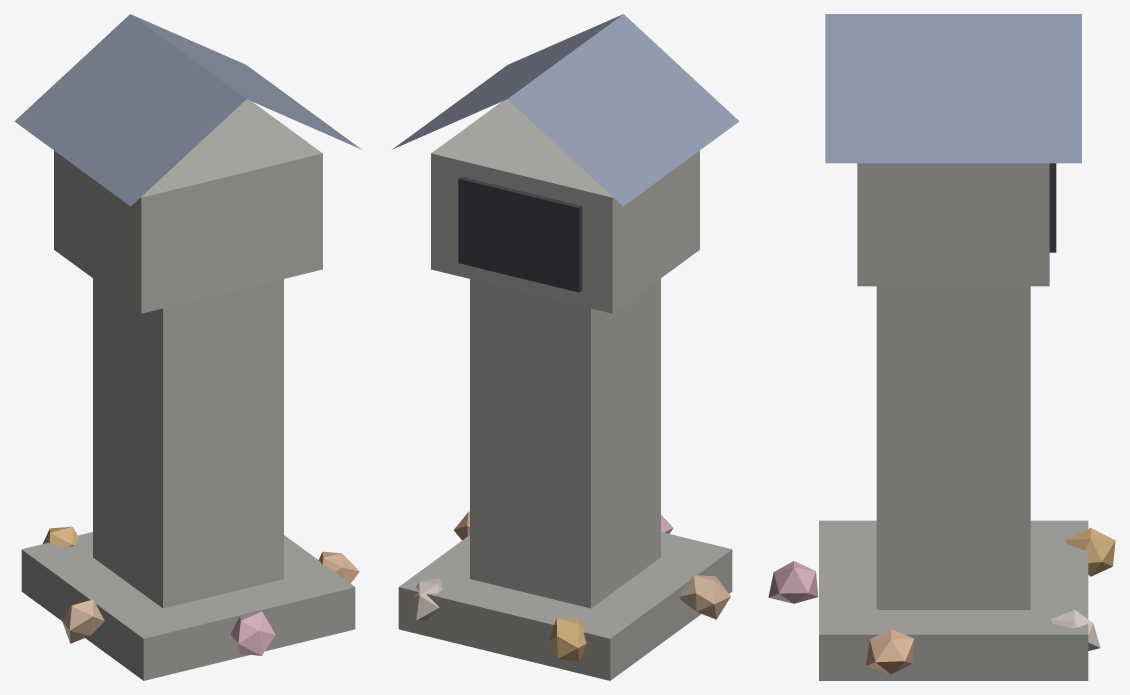
The model's file is shrine.glb.
3 renders of one model, left to right at view 1: azimuth 30°, elevation 25°; view 2: azimuth 150°, elevation 25°; view 3: azimuth 270°, elevation 25°, orthographic. The views are drawn at different scales.
Parts seen in each view (by area): view 1: shrine; view 2: shrine; view 3: shrine.
Boxes of the visible parts, left/top/right/bottom form: shrine: left=14, top=14, right=361, bottom=680; shrine: left=392, top=14, right=739, bottom=680; shrine: left=768, top=14, right=1115, bottom=680.
Size of the model in its own units: 1.1 by 2.1 by 1.08.
